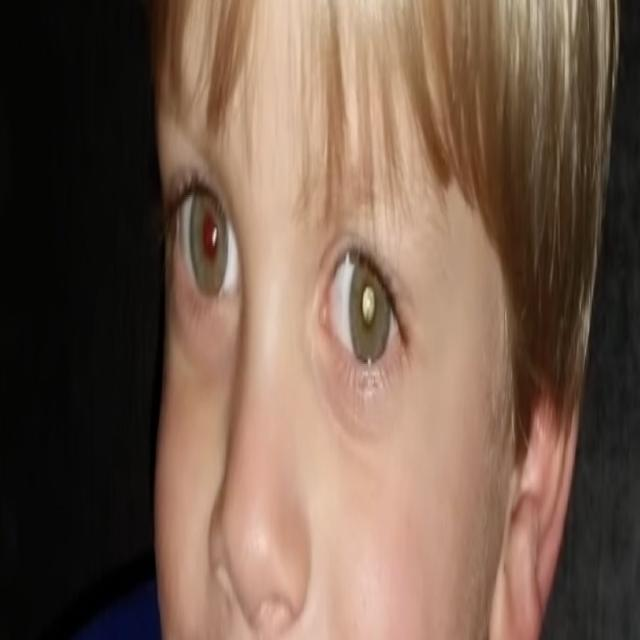reflexo-alterado: (343, 256, 400, 402)
reflexo-normal: (187, 171, 234, 309)
